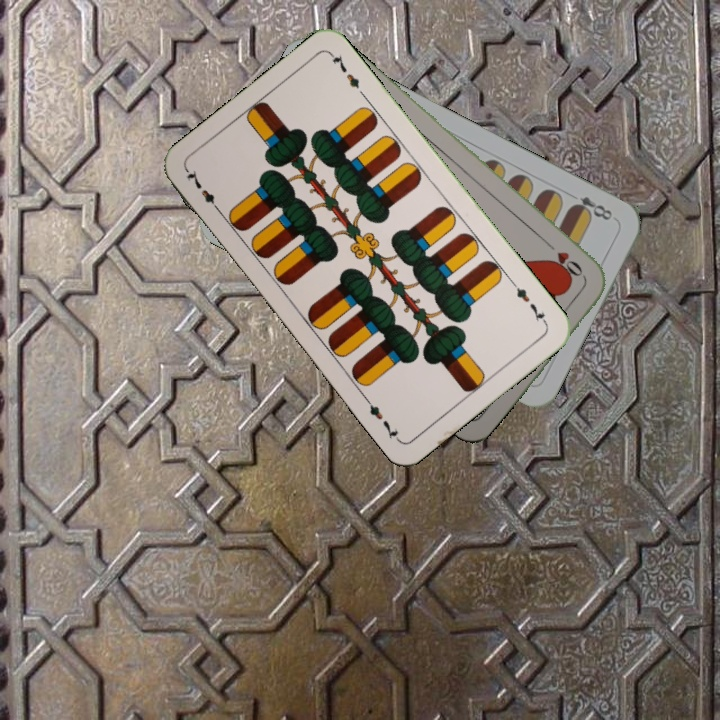E7: (507, 277, 550, 327), (182, 166, 224, 216)
E8: (564, 189, 615, 223)
HO: (541, 237, 589, 283)
